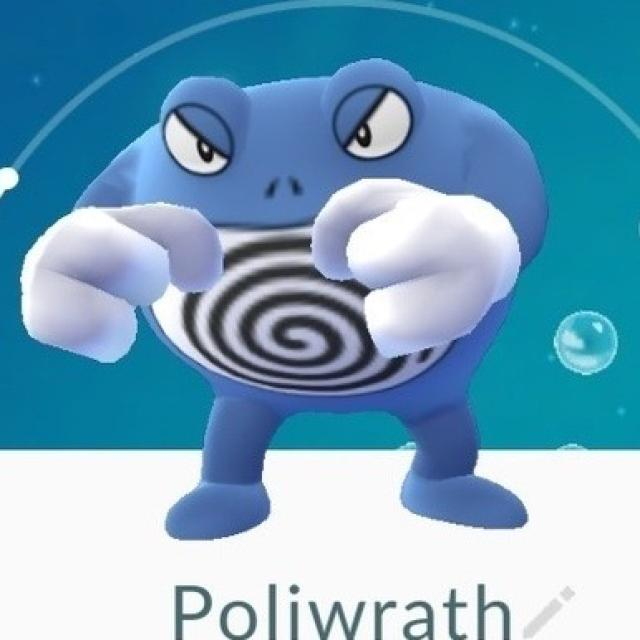Poliwrath: (62, 83, 544, 534)
